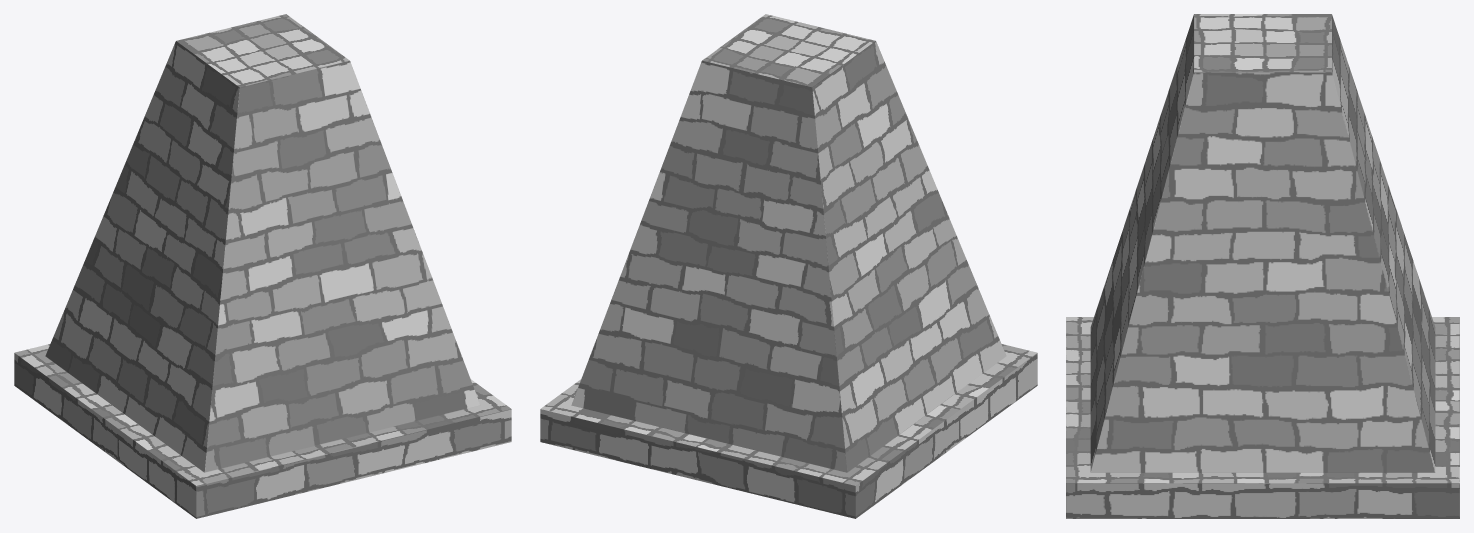
The model's file is SmallBlock.glb.
3 renders of one model, left to right at view 1: azimuth 30°, elevation 25°; view 2: azimuth 150°, elevation 25°; view 3: azimuth 270°, elevation 25°, orthographic. The views are drawn at different scales.
Parts seen in each view (by area): view 1: SmallBlock; view 2: SmallBlock; view 3: SmallBlock.
Boxes of the visible parts, x1,y1,x2,y2 form: SmallBlock: (14,14,511,518); SmallBlock: (540,14,1037,518); SmallBlock: (1066,14,1459,518).
Size of the model in its own units: 4 by 4.4 by 4.
Materials: 1 (1 with a texture image).
